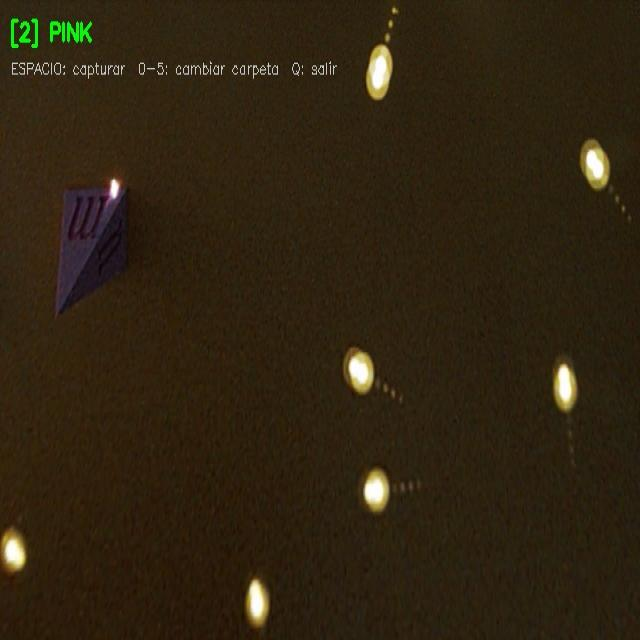pink: (56, 189, 127, 315)
